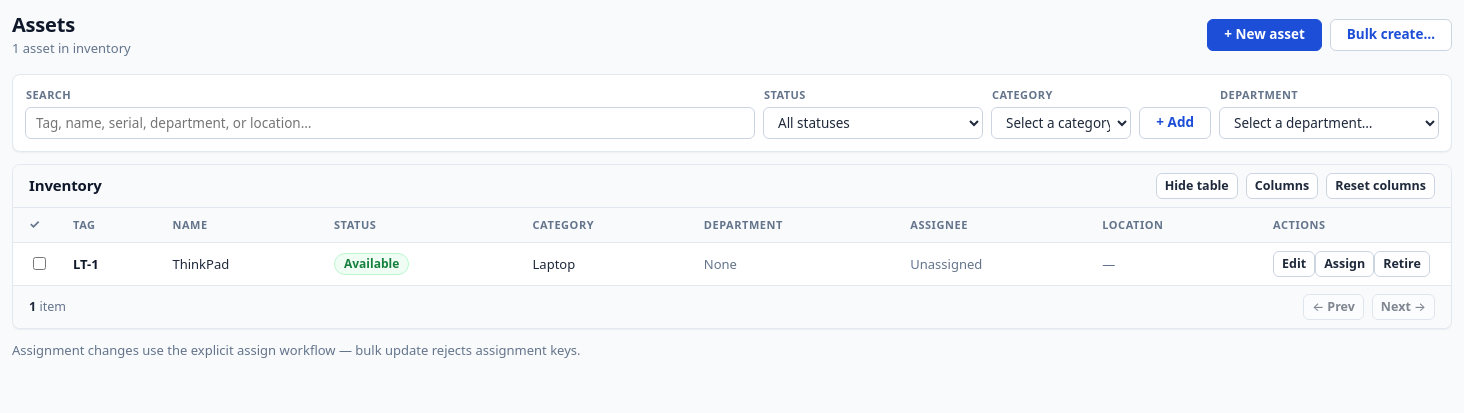
Scenario: Assets list bulk gating › shows the bulk toolbar to staff after selecting a row
Expected: the link "LT-1" is shown, [73,255,99,273]
Click the checkbox named "Select row 1". click: coordinates (40, 263)
box: [33,257,46,270]
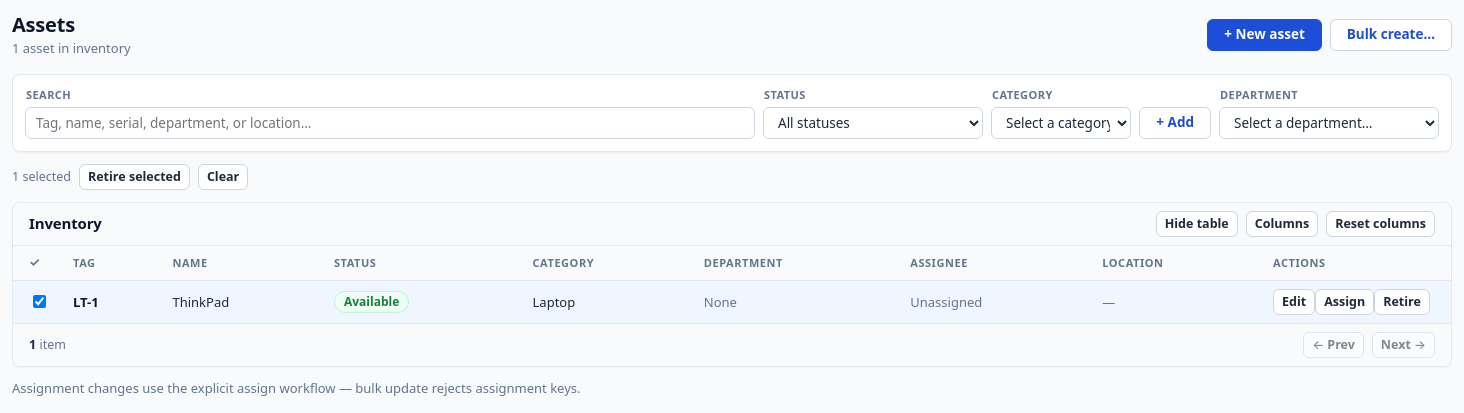
Expected: the element named "Bulk actions" is shown, [12,164,248,190]
